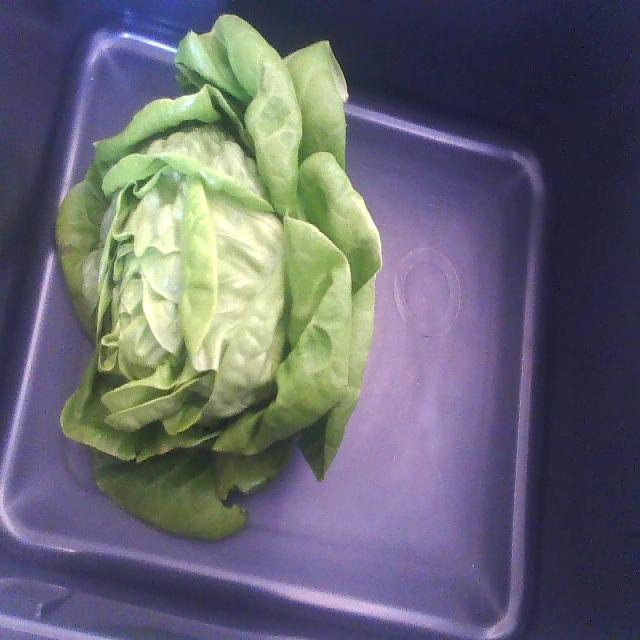lettuce: (56, 15, 382, 537)
